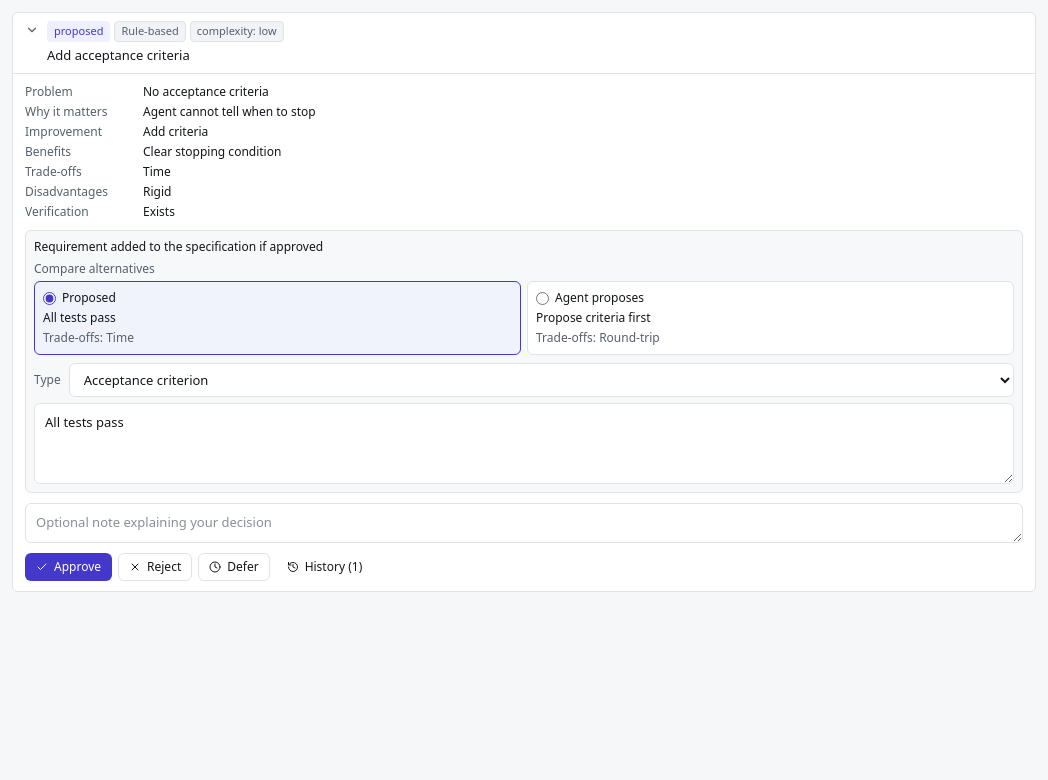
Test: RecommendationCard › shows decision history
Click the button "History (1)". click: (324, 566)
box: [276,552,373,580]
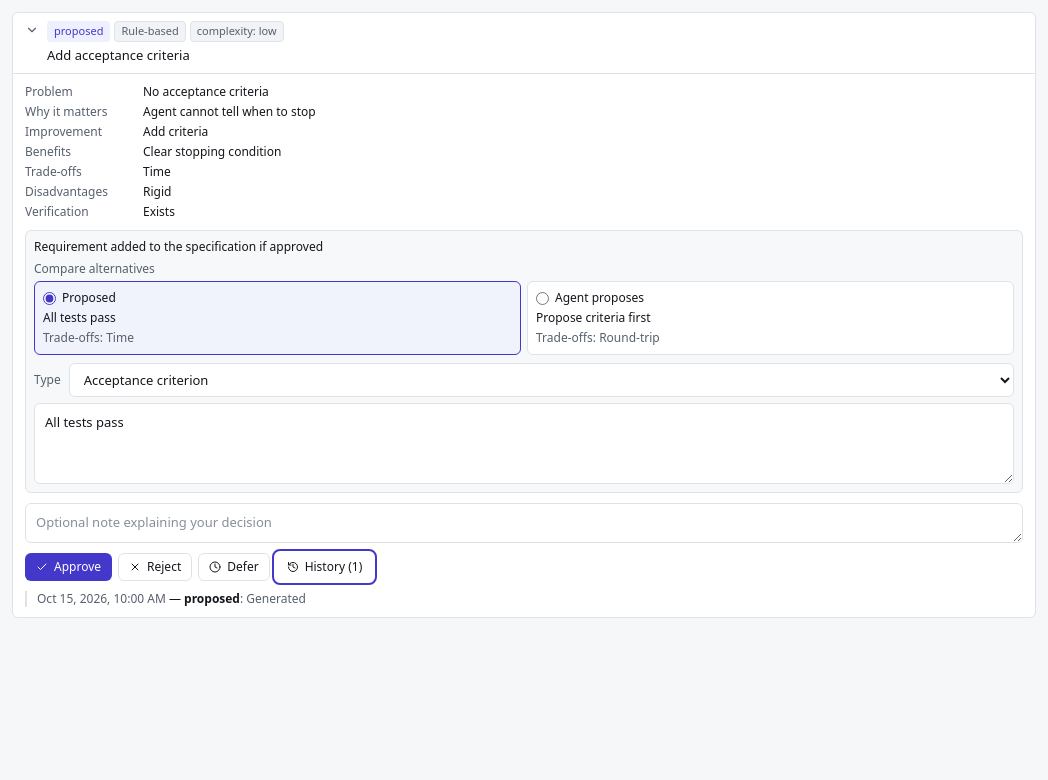
Now the text ": Generated" is shown, box [240,590,306,606]
